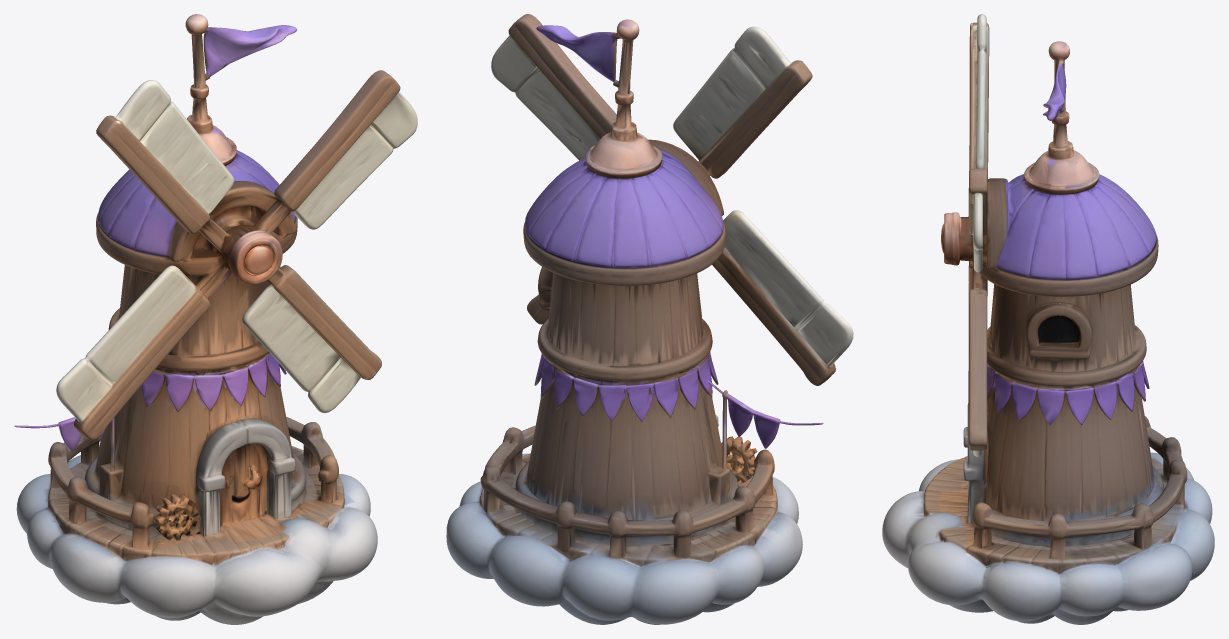
File: windmill-highland-2.glb
The picture shows the model from 3 angles, left to right: view 1: azimuth 30°, elevation 25°; view 2: azimuth 150°, elevation 25°; view 3: azimuth 270°, elevation 25°; orthographic projection. The views are drawn at different scales.
Visible parts, largest first — view 1: node_0; view 2: node_0; view 3: node_0.
Boxes of the visible parts, box(x1,y1,x2,y2) form: node_0: box(14, 14, 417, 624); node_0: box(446, 14, 853, 624); node_0: box(882, 14, 1214, 624).
Size of the model in its own units: 0.7831 by 1.16 by 0.6389.
Materials: 1 (1 with a texture image).
